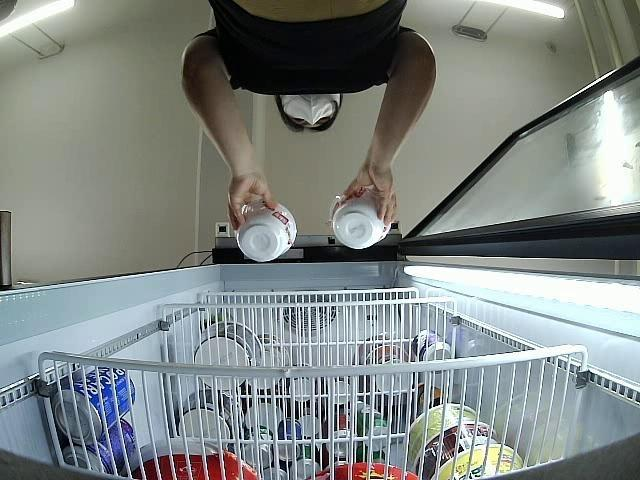09_yukGaeJang: (328, 186, 393, 251), (235, 200, 298, 265)
